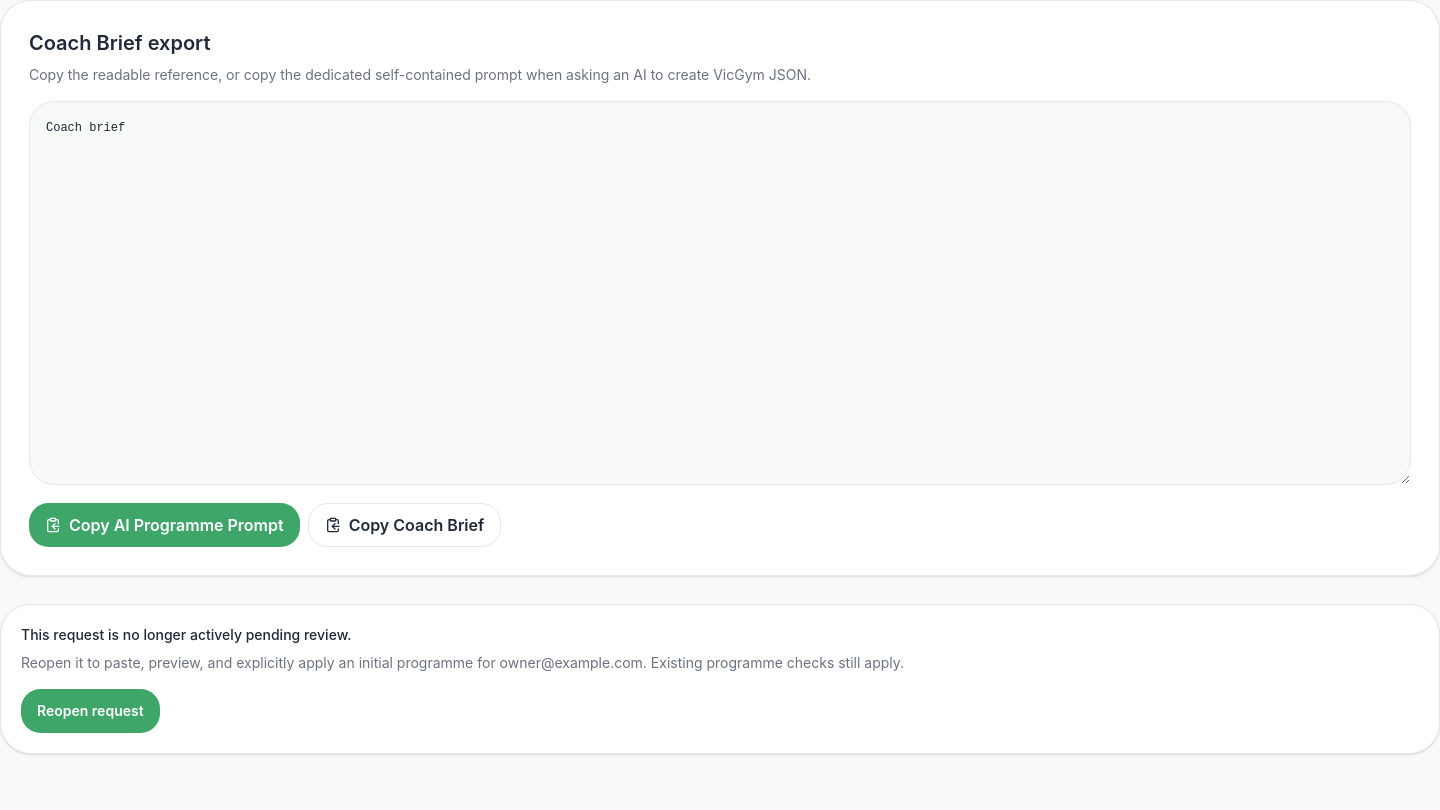
Test case: administrator programme preview › explains and explicitly reopens a cancelled request before exposing programme creation
Expected: the text "This request is no longer actively pending review." is shown, [21,626,352,643]
Click the button "Reopen request".
click(90, 711)  # box [21,689,160,733]
(page scrolled)
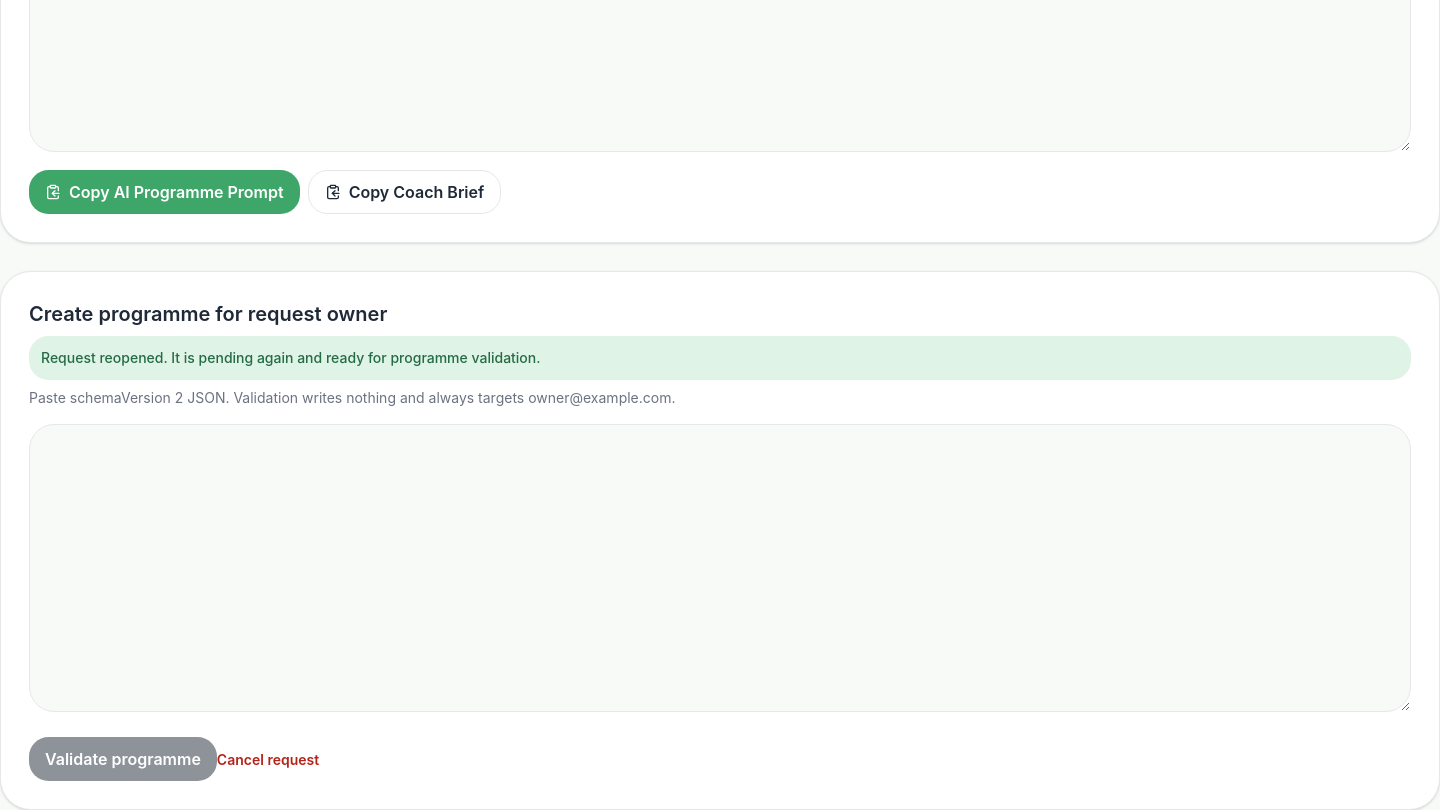
Expected: the text "Request reopened. It is pending again and ready for programme validation." is shown, [29,336,1411,380]
Expected: the text box named "Programme JSON" is shown, [29,424,1411,712]
